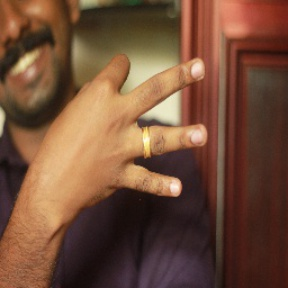K: (28, 53, 211, 209)
